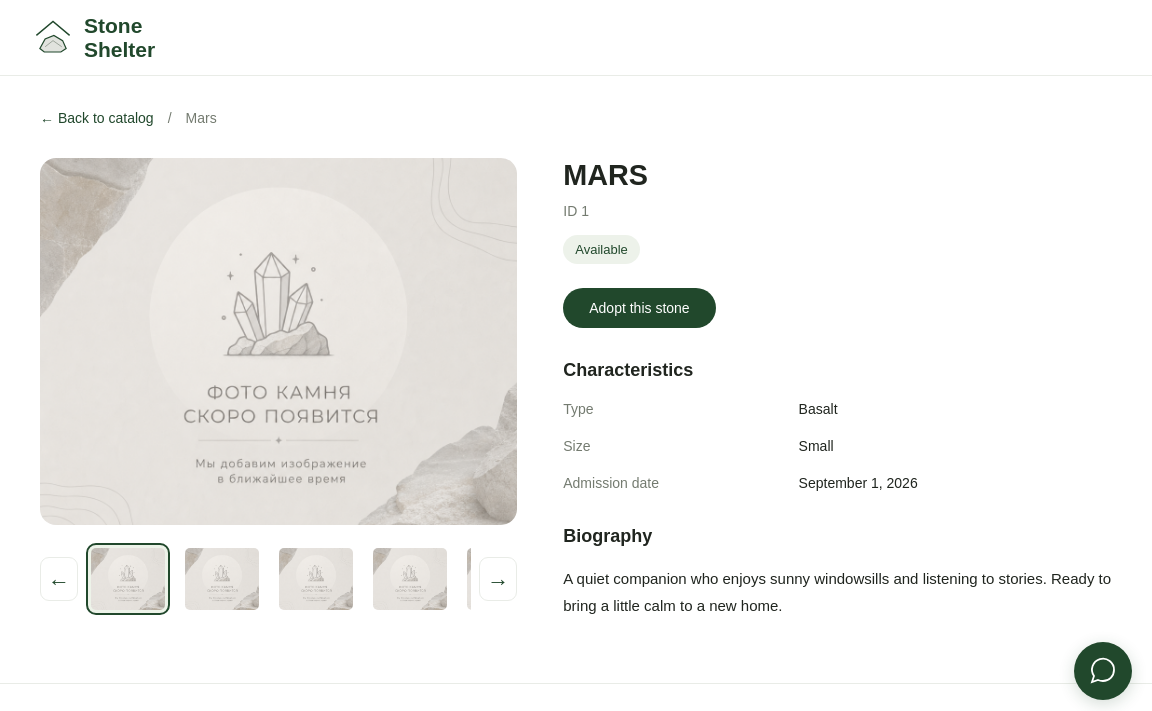
Test case: adoption modal takes priority over an expanded chat and closing it retains the conversation
Step 1. Click the button named "Open chat" → click(1103, 671), box [1074,642,1132,700]
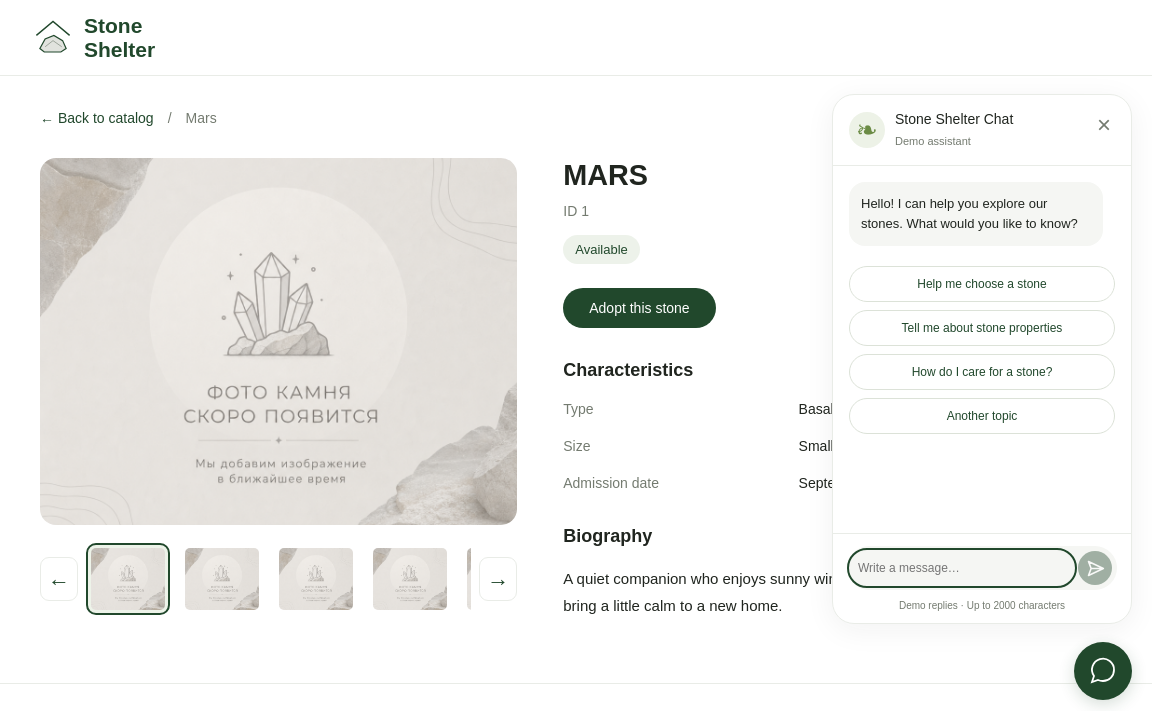
Step 2. Type "Unsaved chat draft" into the field → (962, 568), box [852,553,1072,583]
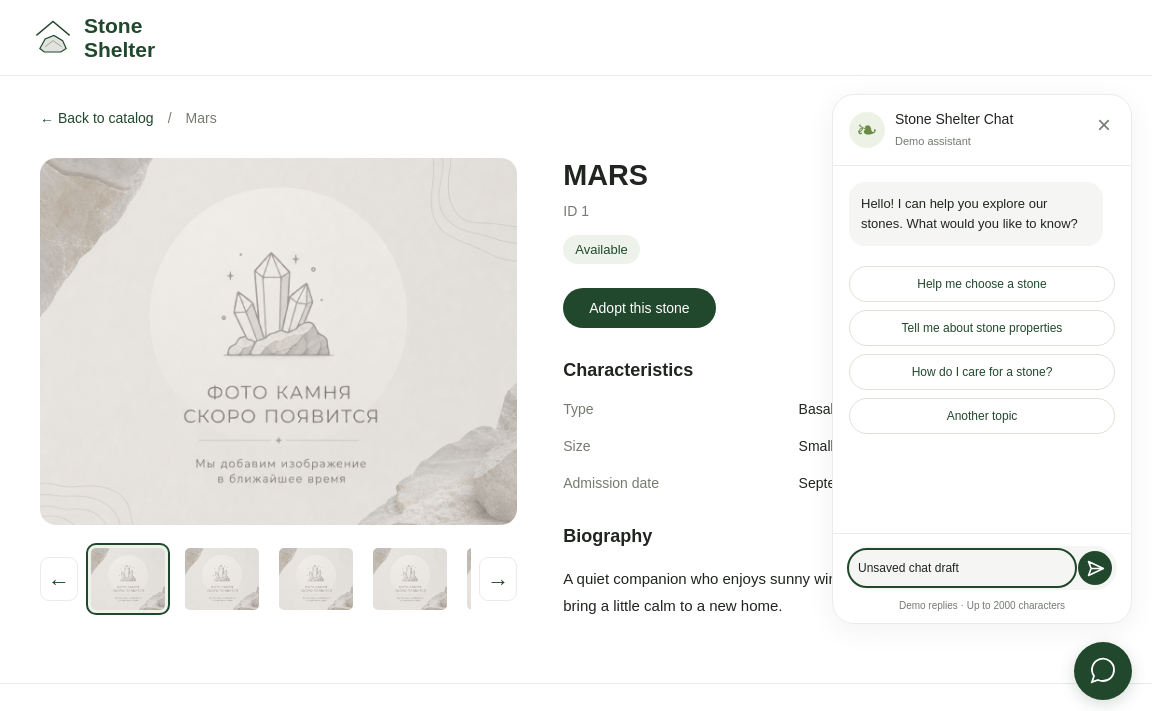
Step 3. Click the button "Adopt this stone" → click(640, 308), box [563,288,716,328]
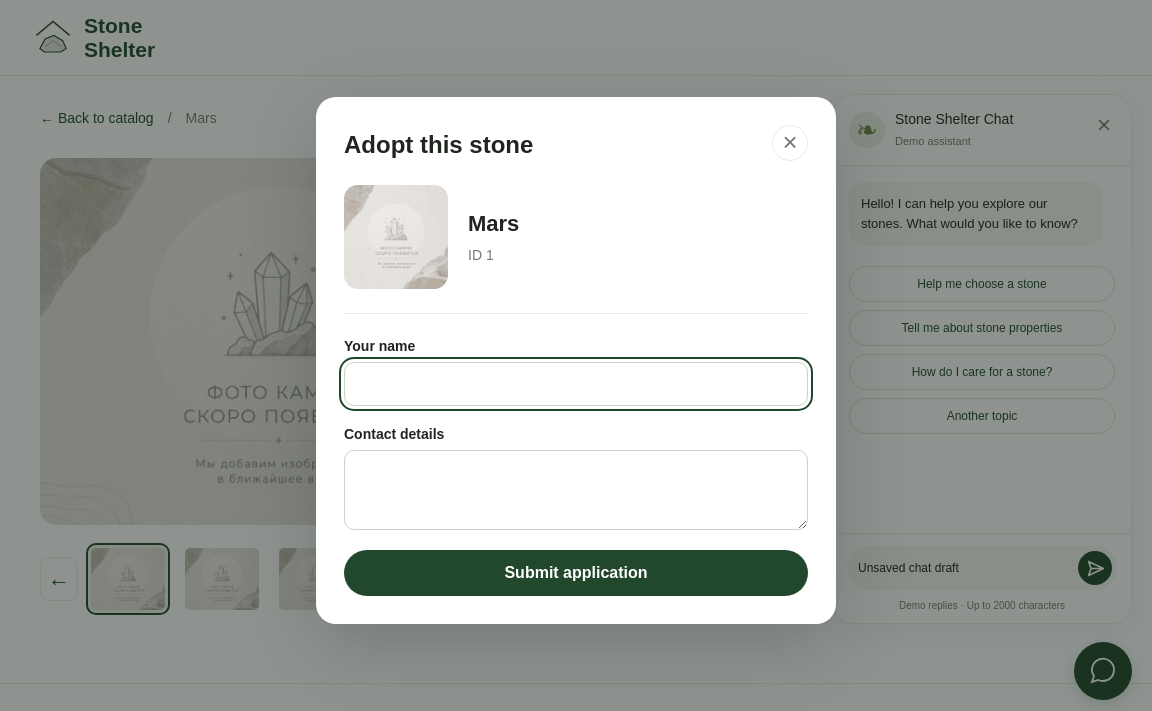
Now the dialog "Adopt this stone" is shown, box [316,96,836,624]
Step 4. Press Escape
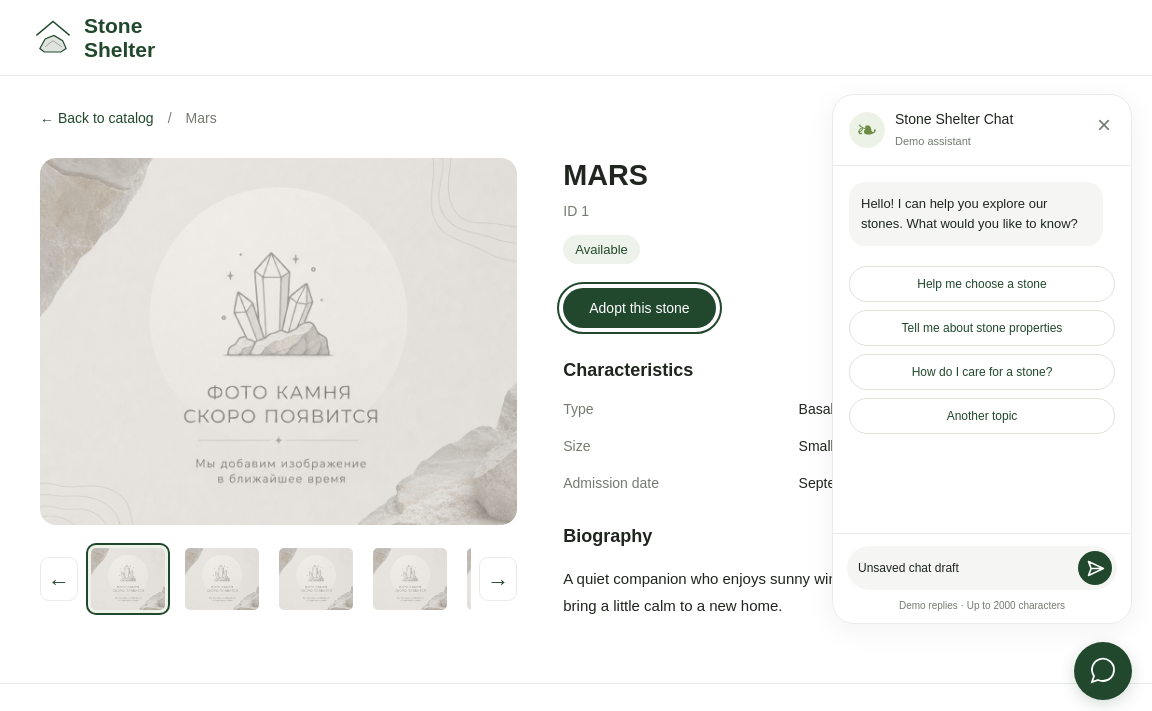
Now the button named "Collapse chat" is shown, box [1074,642,1132,700]
Now the dialog is gone
